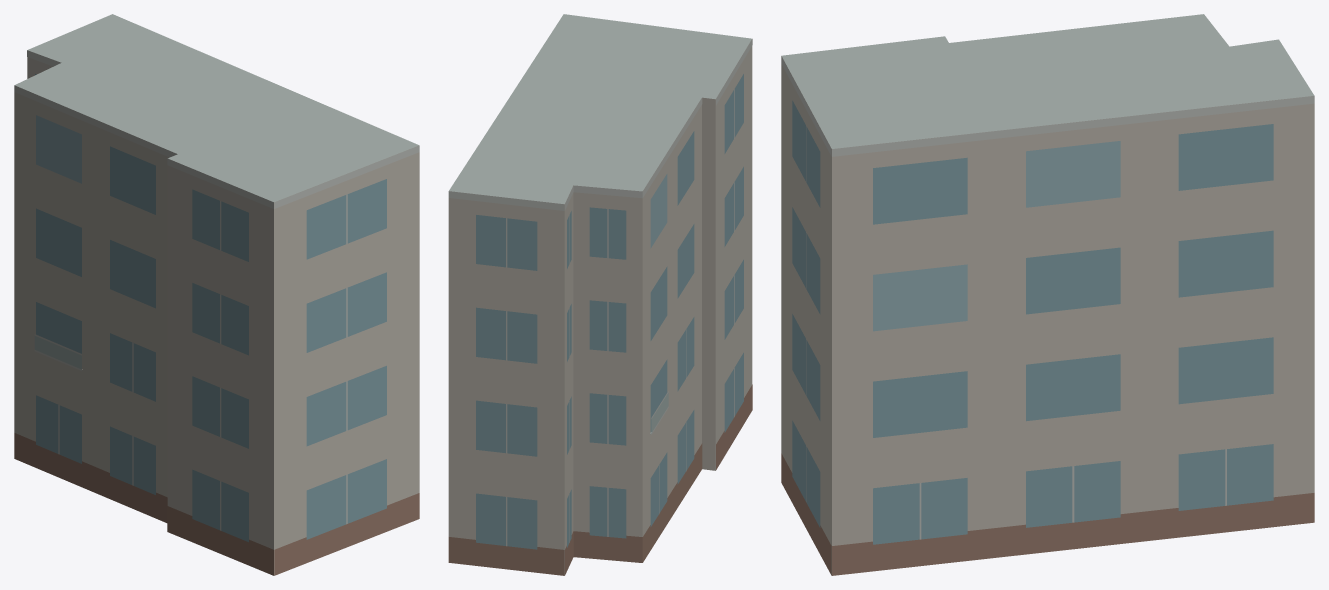
The model's file is survey-upis-32474083.glb.
The picture shows the model from 3 angles, left to right: view 1: azimuth 30°, elevation 25°; view 2: azimuth 150°, elevation 25°; view 3: azimuth 270°, elevation 25°; orthographic projection. The views are drawn at different scales.
Parts seen in each view (by area): view 1: survey-upis-32474083.tmp; view 2: survey-upis-32474083.tmp; view 3: survey-upis-32474083.tmp.
Boxes of the visible parts, x1,y1,x2,y2 form: survey-upis-32474083.tmp: (14,14,419,575); survey-upis-32474083.tmp: (448,14,752,575); survey-upis-32474083.tmp: (781,14,1314,575).
Size of the model in its own units: 9.04 by 13.3 by 15.07.
